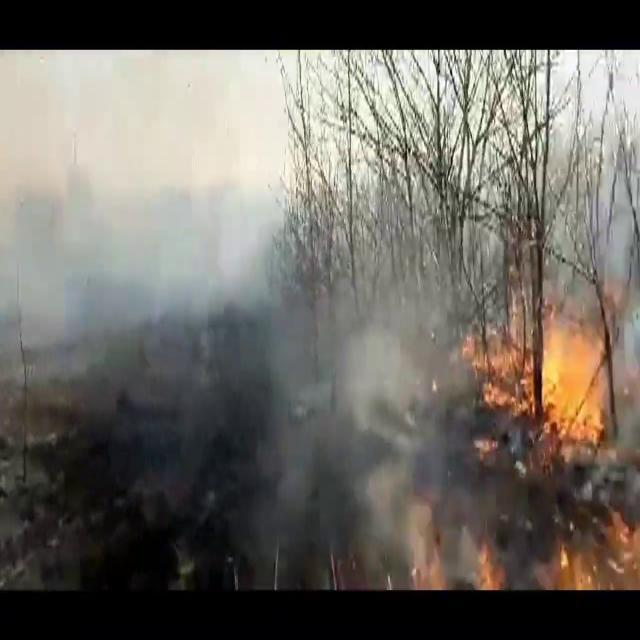Fire: (458, 268, 620, 463), (534, 502, 640, 589)
Smoke: (0, 53, 496, 579)
